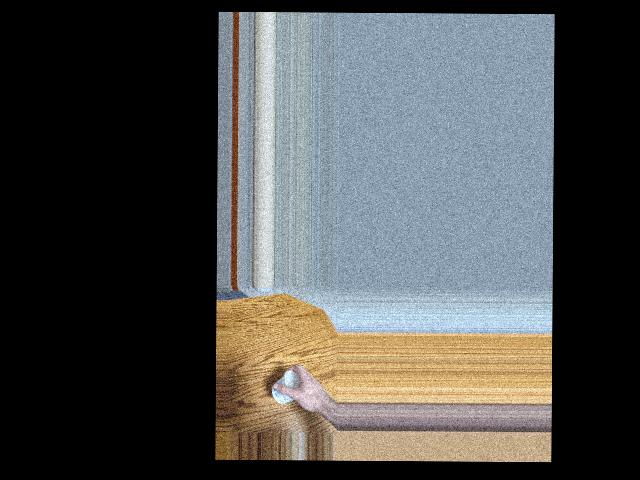cotage: (273, 369, 305, 407)
